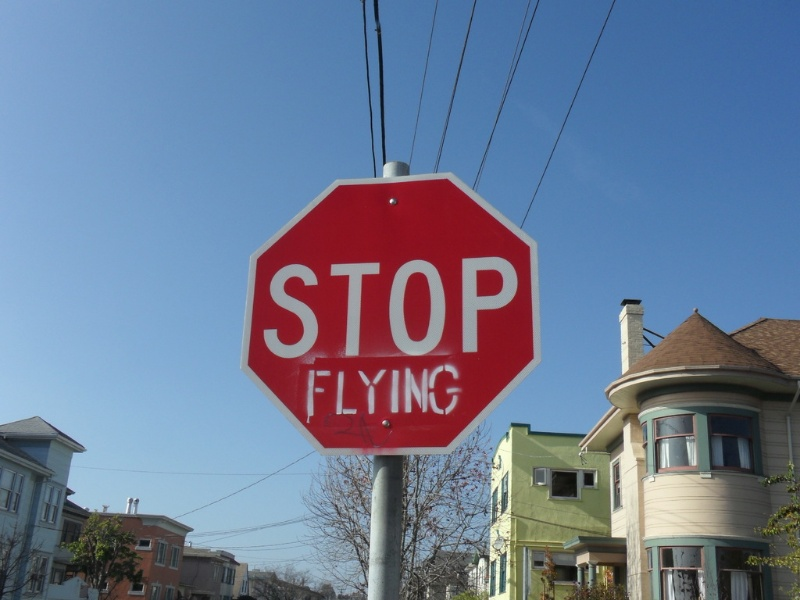stop: (248, 167, 513, 468)
